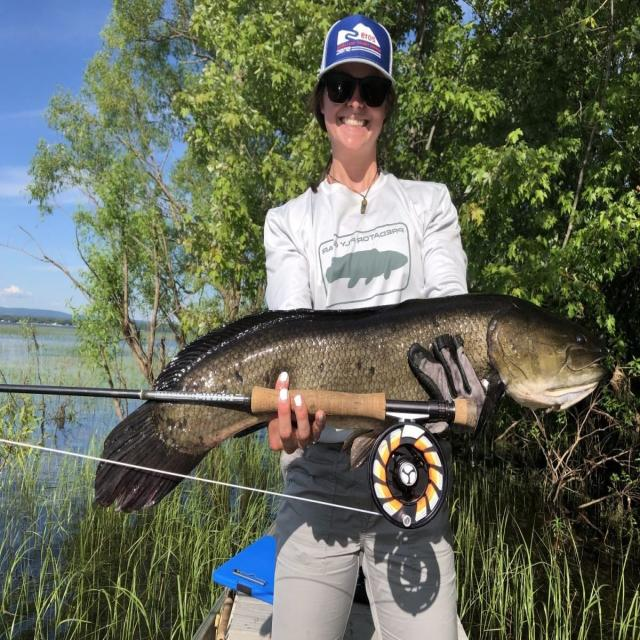Bowfin: (155, 295, 605, 408), (102, 403, 266, 472), (95, 465, 178, 510)
